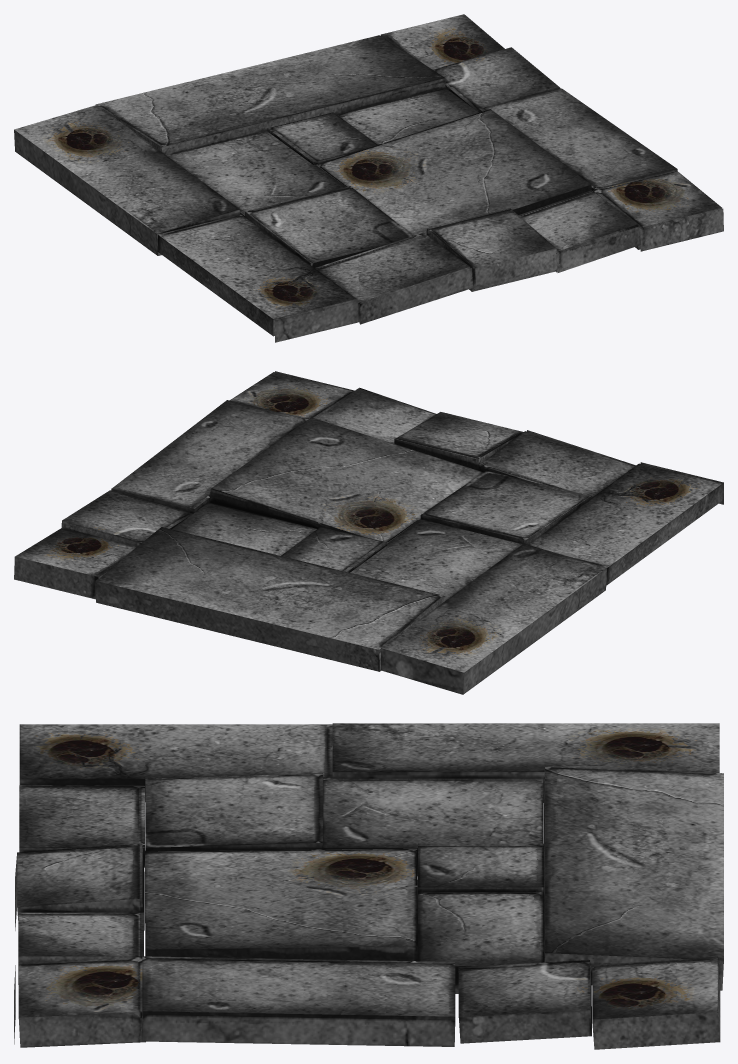
The model's file is Floor_Trap.fbx.
The picture shows the model from 3 angles, top to bottom: view 1: azimuth 30°, elevation 25°; view 2: azimuth 150°, elevation 25°; view 3: azimuth 270°, elevation 25°; orthographic projection. The views are drawn at different scales.
Visible parts, largest first — view 1: FloorTrap1; view 2: FloorTrap1; view 3: FloorTrap1.
Part boxes in pixels (x1,y1,x2,y2): FloorTrap1: (14,14,723,342); FloorTrap1: (14,371,723,694); FloorTrap1: (14,723,723,1049).
Size of the model in its own units: 206 by 20.43 by 207.
